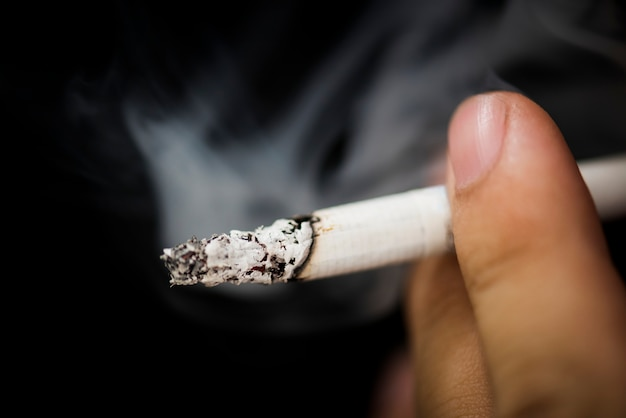cigarette: (158, 153, 626, 287)
